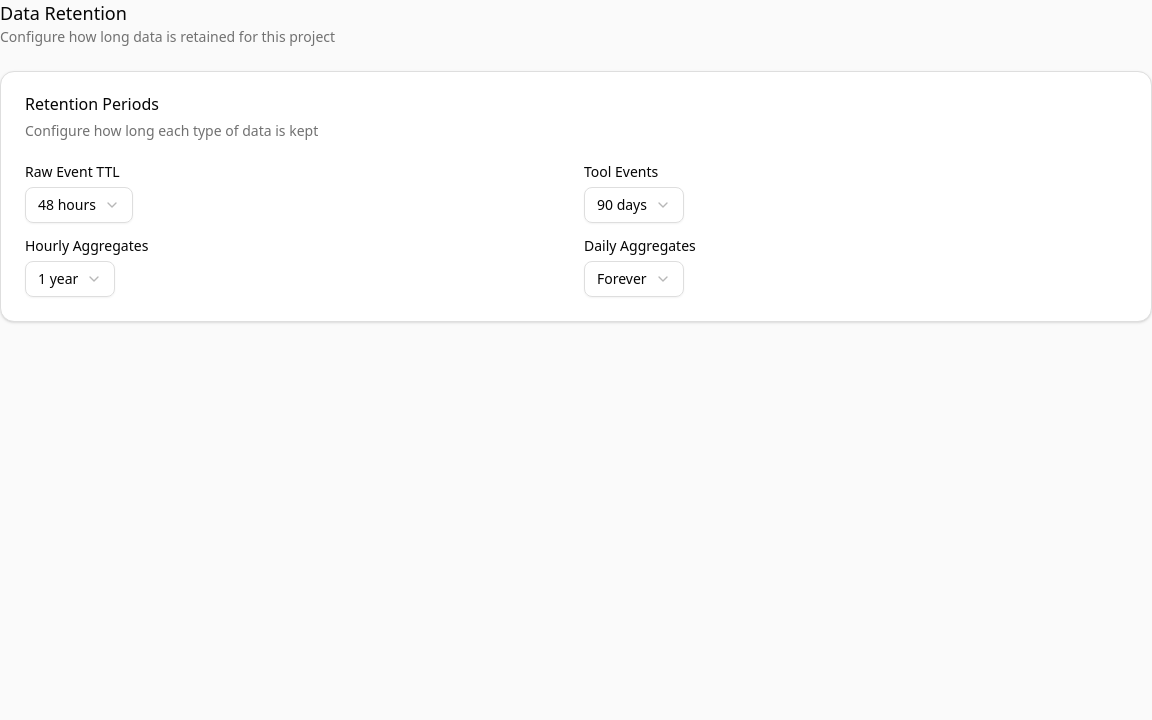
Test: ProjectRetentionPolicySection › shows confirmation dialog when TTL is reduced
Click the dropdown labelled "48 hours": (79, 205) [25,187,133,223]
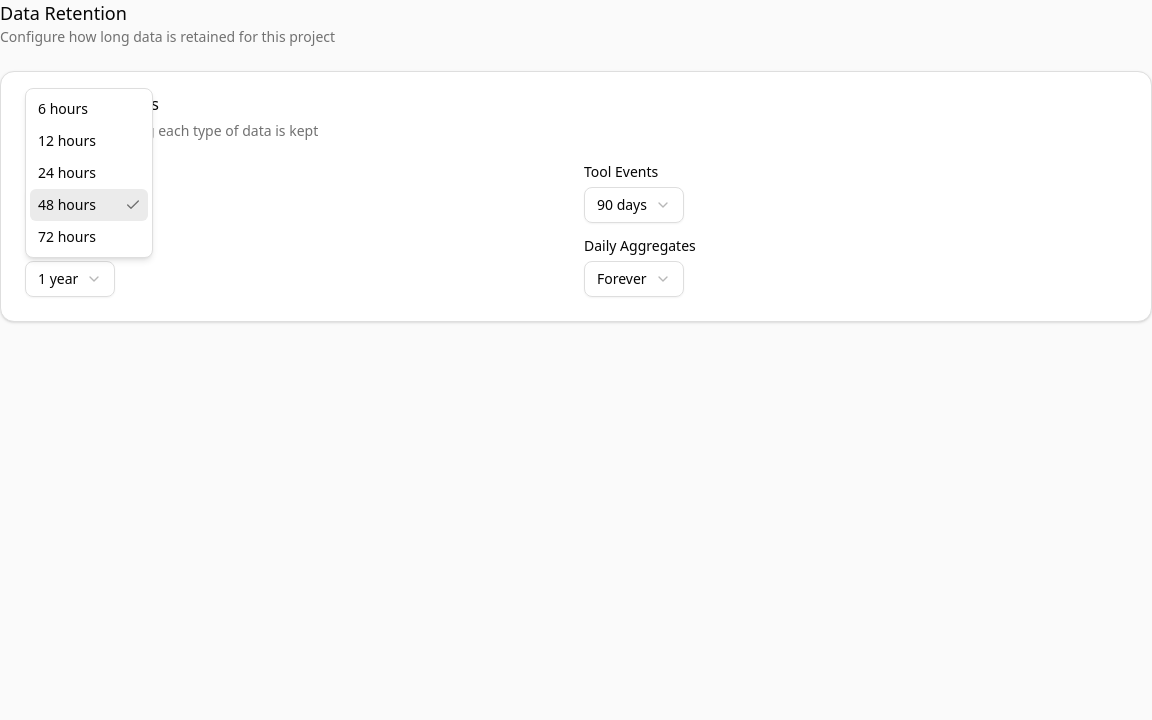
Click the option "6 hours": (63, 108) [38,99,88,118]
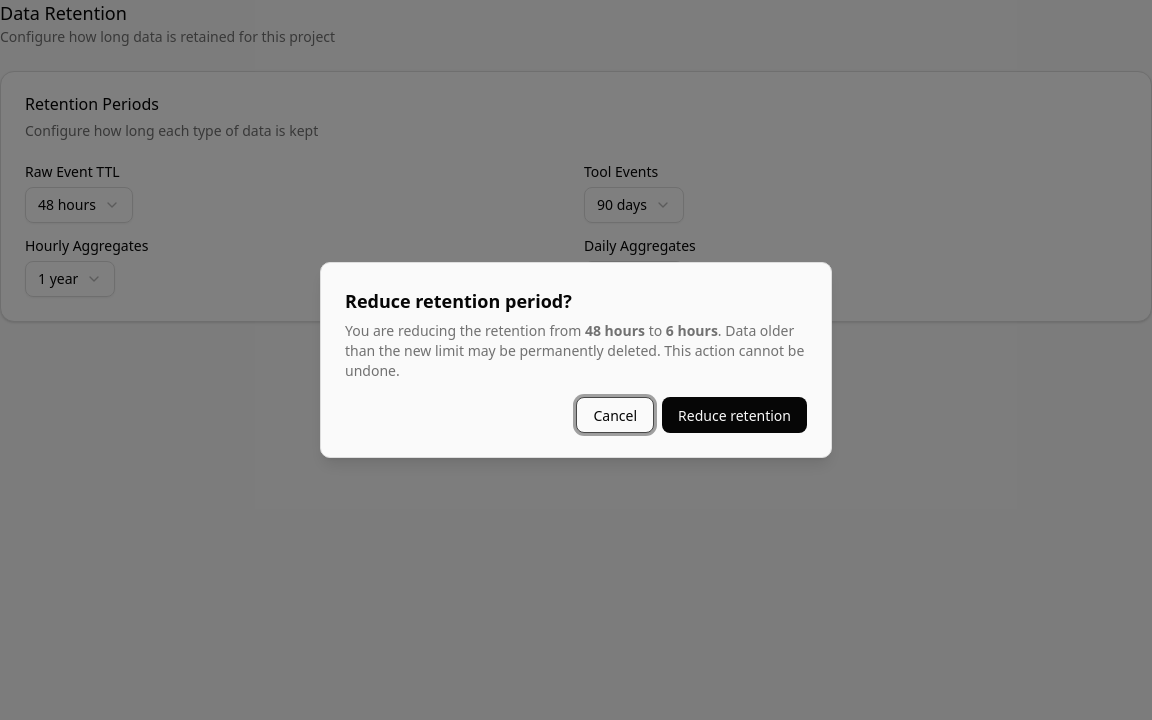
Check: the heading "Reduce retention period?" is shown, box [345,287,572,315]
